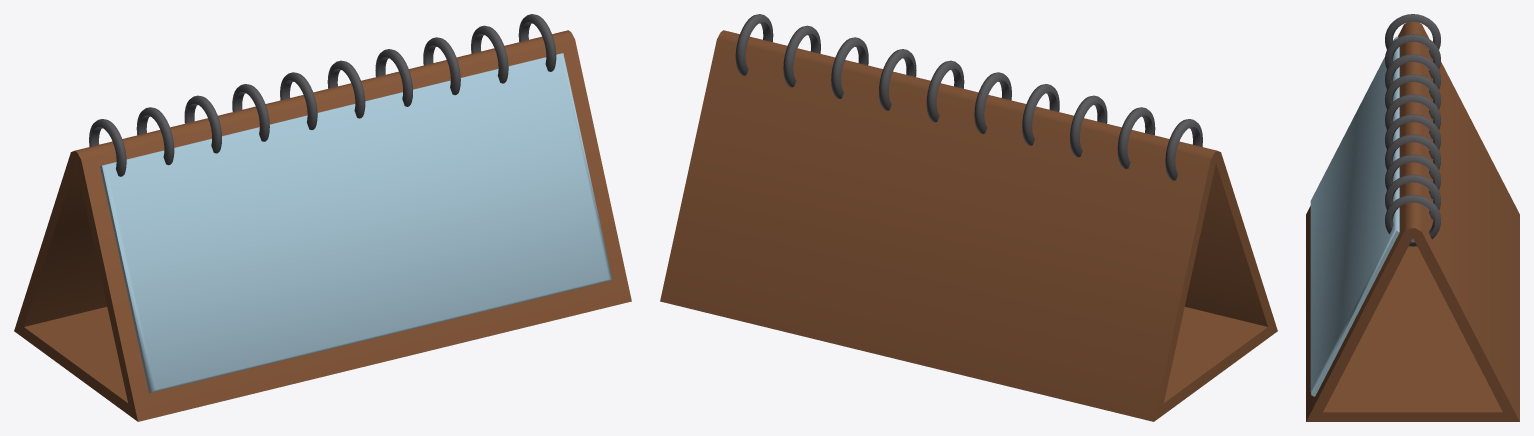
The model's file is takvim.fbx.
3 renders of one model, left to right at view 1: azimuth 30°, elevation 25°; view 2: azimuth 150°, elevation 25°; view 3: azimuth 270°, elevation 25°, orthographic. The views are drawn at different scales.
Parts seen in each view (by area): view 1: Cube.004, Cube.003; view 2: Cube.003; view 3: Cube.003, Cube.004.
Boxes of the visible parts, bbox=[...] form: Cube.004: bbox=[100, 53, 612, 392]; Cube.003: bbox=[14, 14, 631, 421]; Cube.003: bbox=[660, 14, 1277, 421]; Cube.003: bbox=[1306, 14, 1519, 421]; Cube.004: bbox=[1310, 36, 1399, 396].
Bounding box in the file's own units: 416 × 199 × 181.
